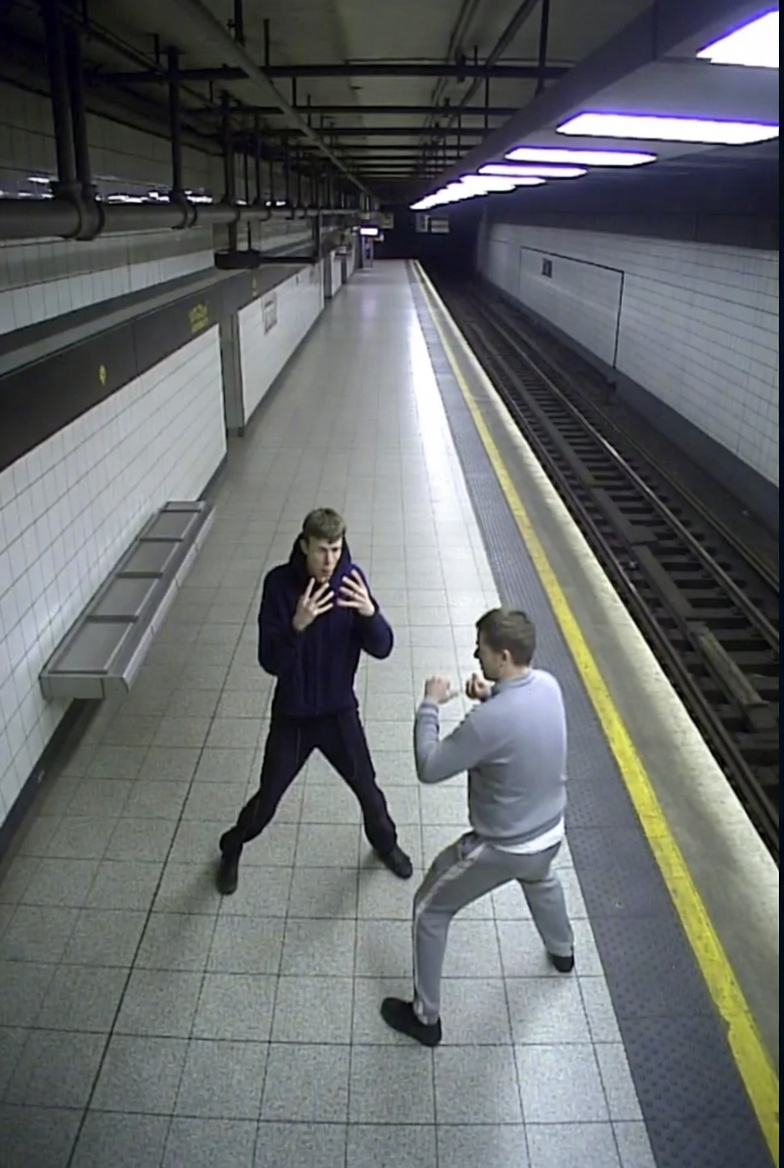Assault: (380, 605, 578, 1048)
Fighting: (215, 506, 415, 894)
